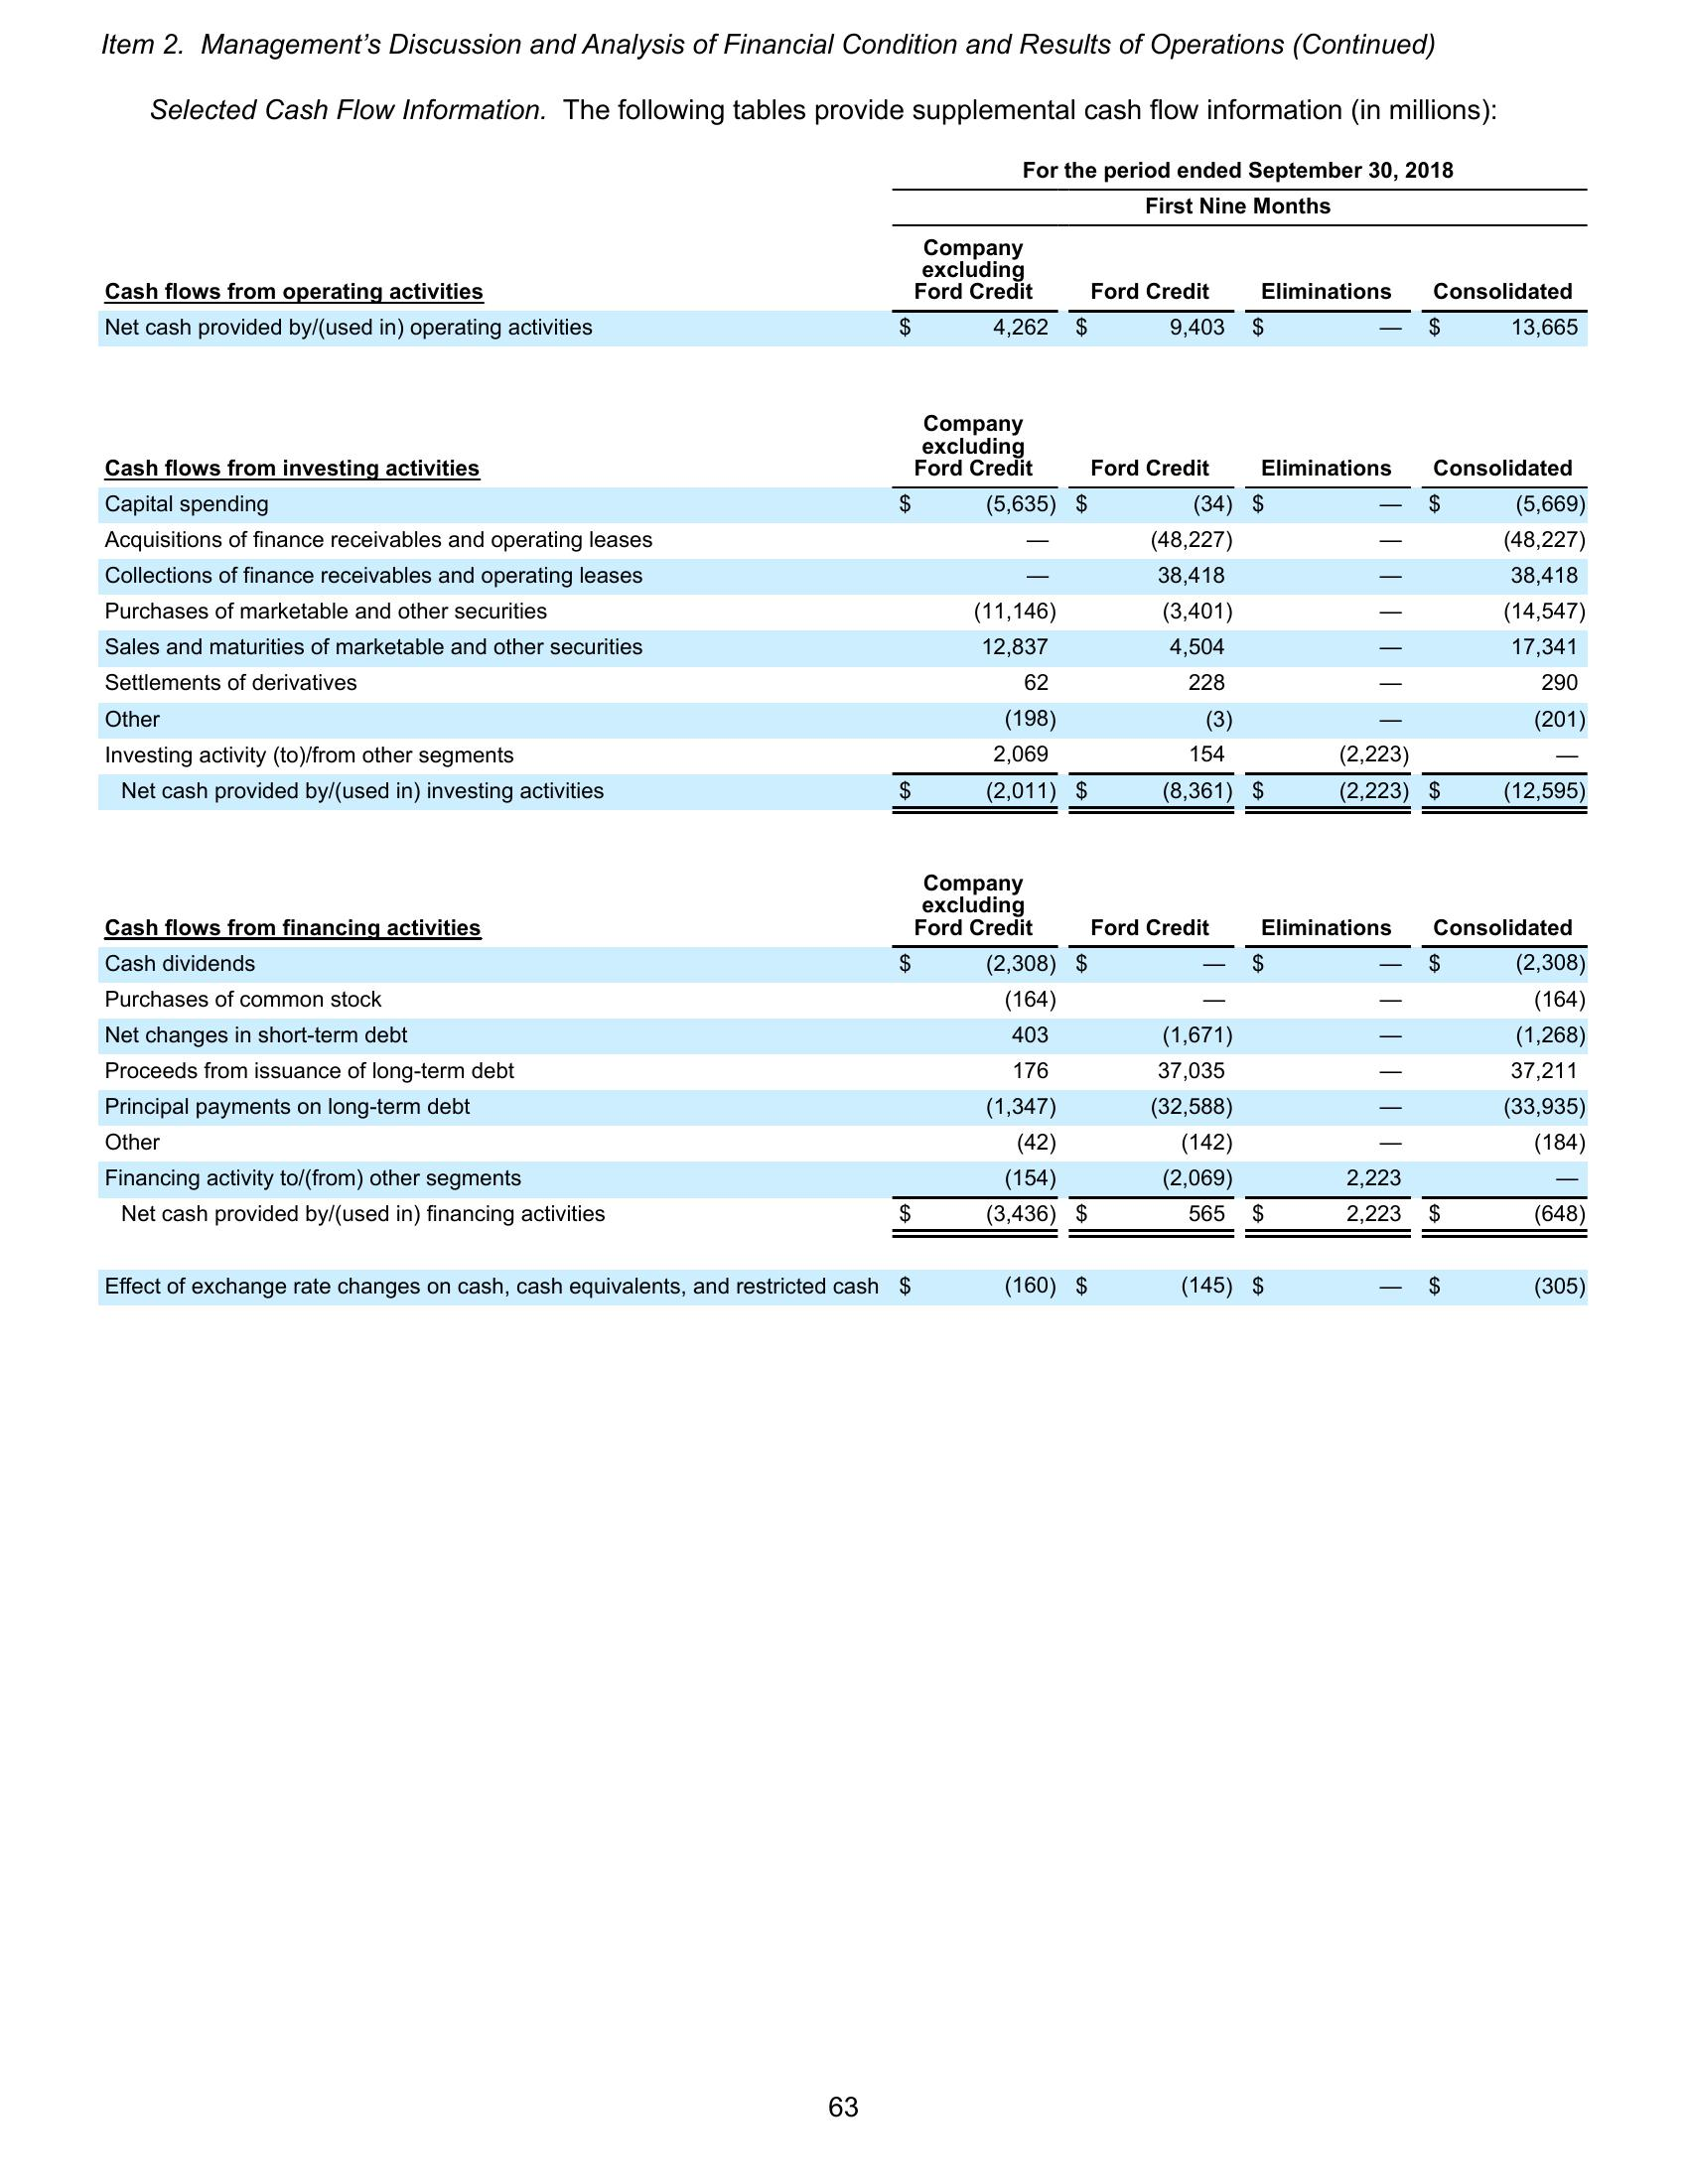table: (92, 152, 1596, 821), (92, 863, 1594, 1310)
